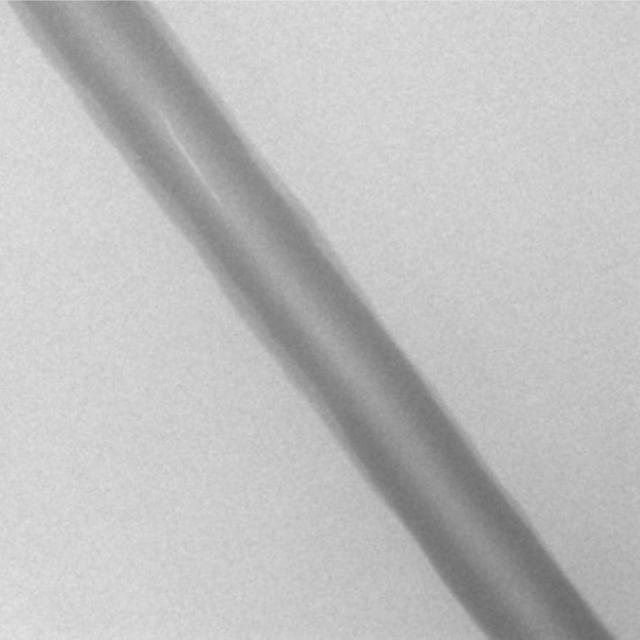crack: (165, 118, 224, 208)
